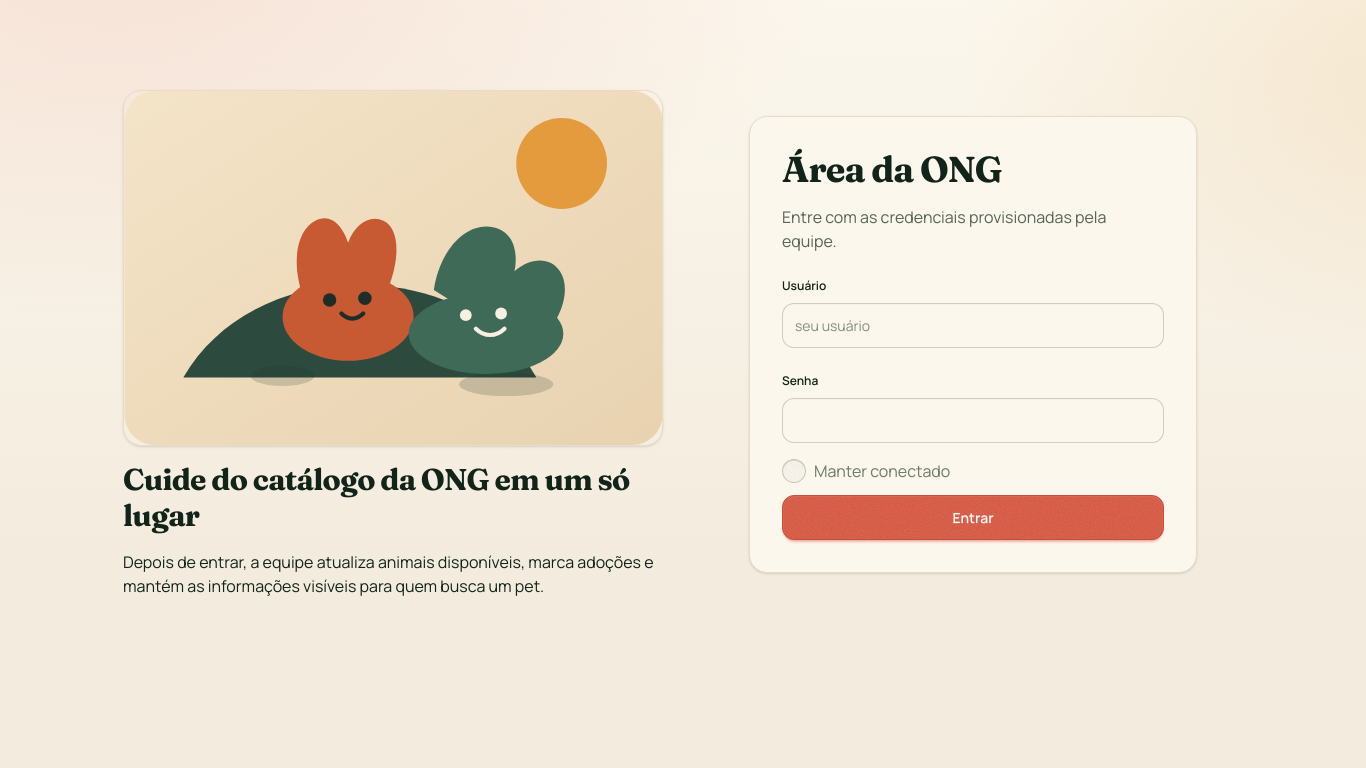
LoginPage › shows an unknown error alert and stays on login
Type "admin" into the field named "username" at (973,325), box [782,302,1164,348]
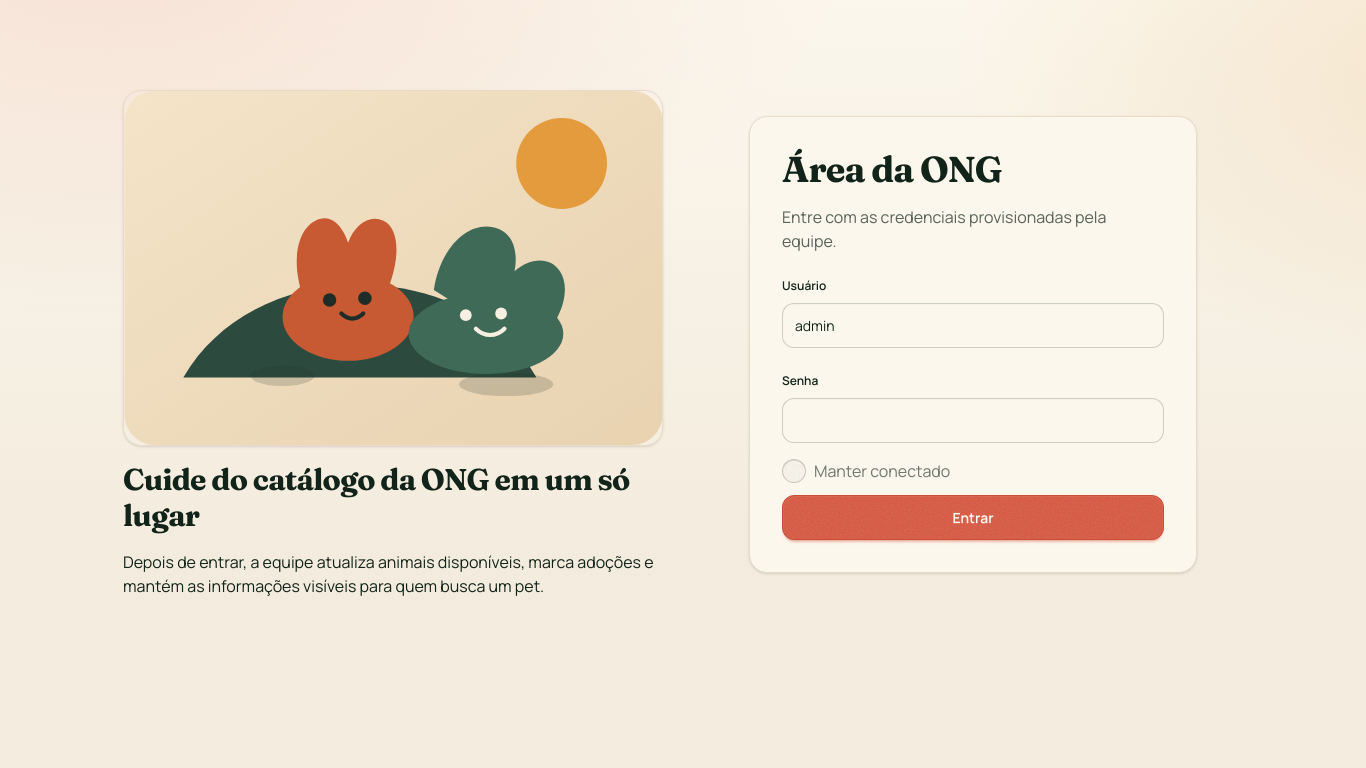
Type "secret" into the password field named "password" at (952,420), box [795,398,1109,442]
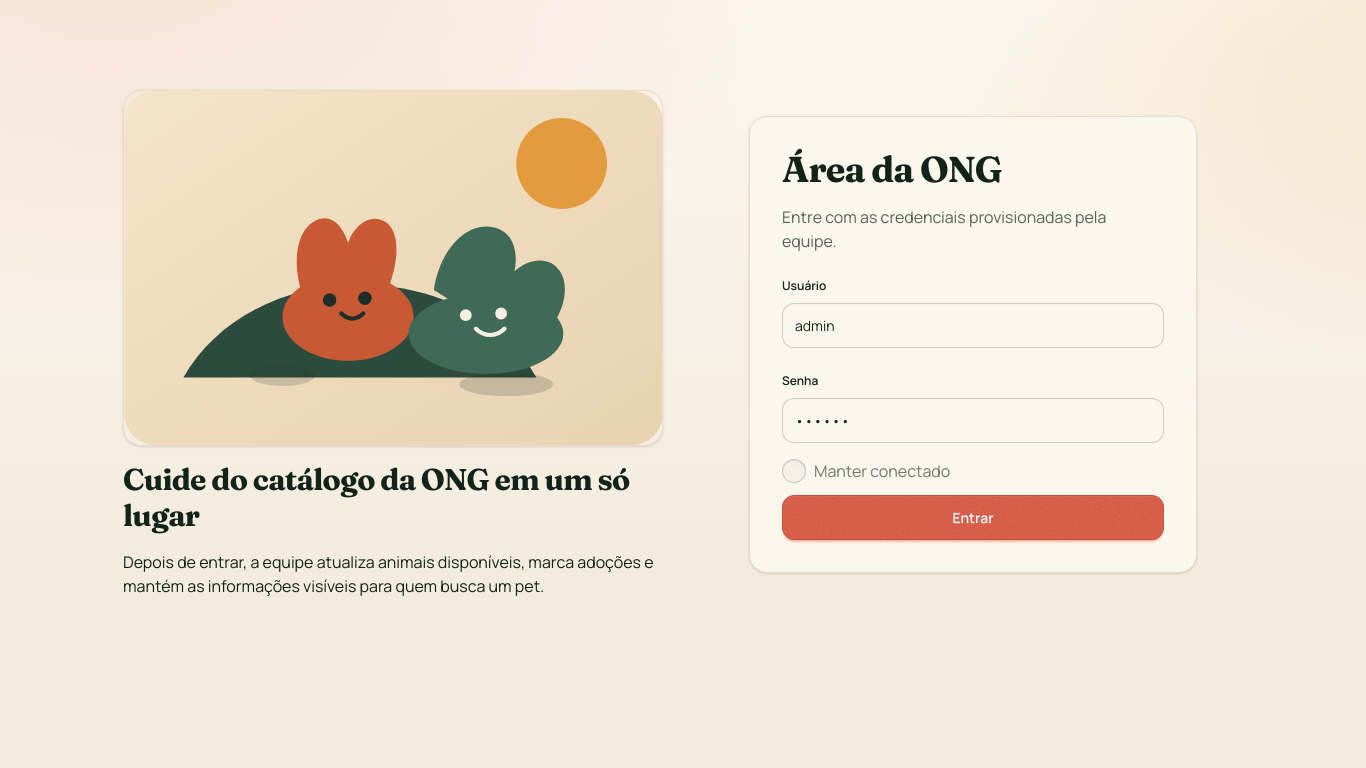
Submit the form, box [782,268,1164,540]
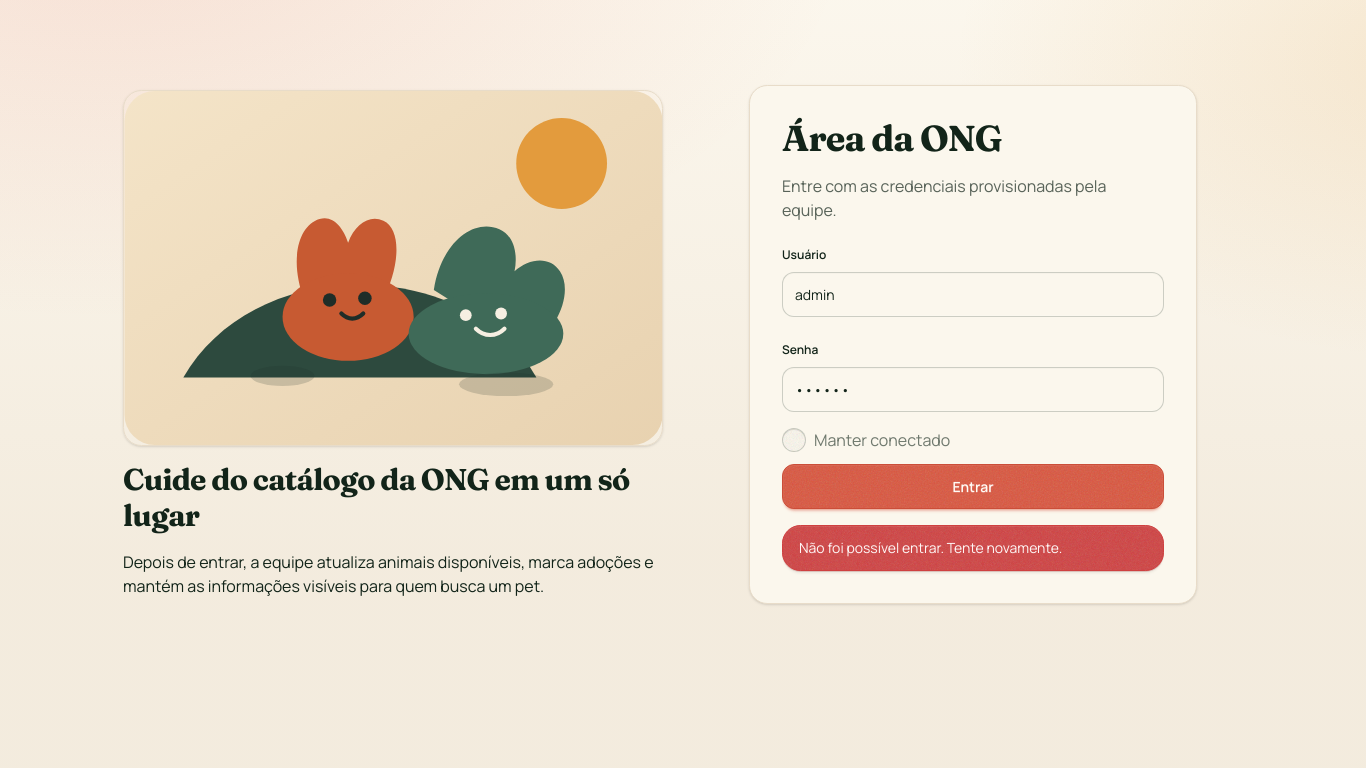
Result: the message "Não foi possível entrar. Tente novamente." is shown at [782,524,1164,570]
